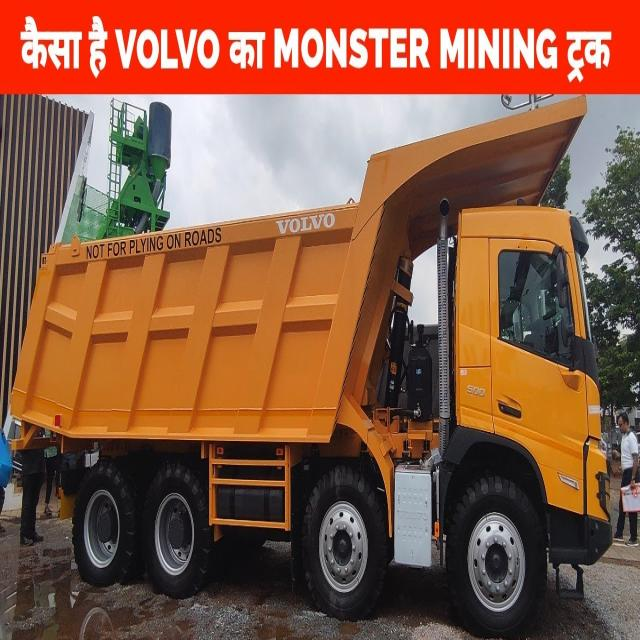truck: (11, 98, 612, 634)
